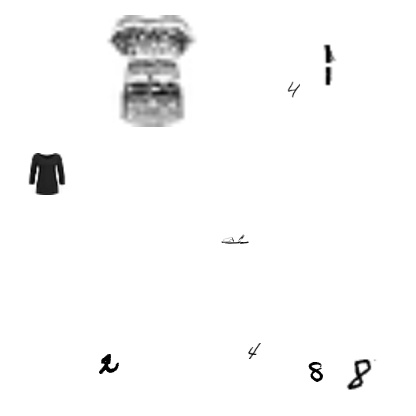1: (300, 35, 356, 91)
2: (93, 351, 121, 379)
4: (242, 340, 264, 362), (283, 77, 305, 99)
5: (128, 86, 142, 100)
8: (338, 352, 380, 394), (301, 357, 329, 385)
Sandal: (221, 225, 249, 253)
Shirt: (96, 15, 208, 127)
T-shirt/top: (26, 153, 68, 195)
